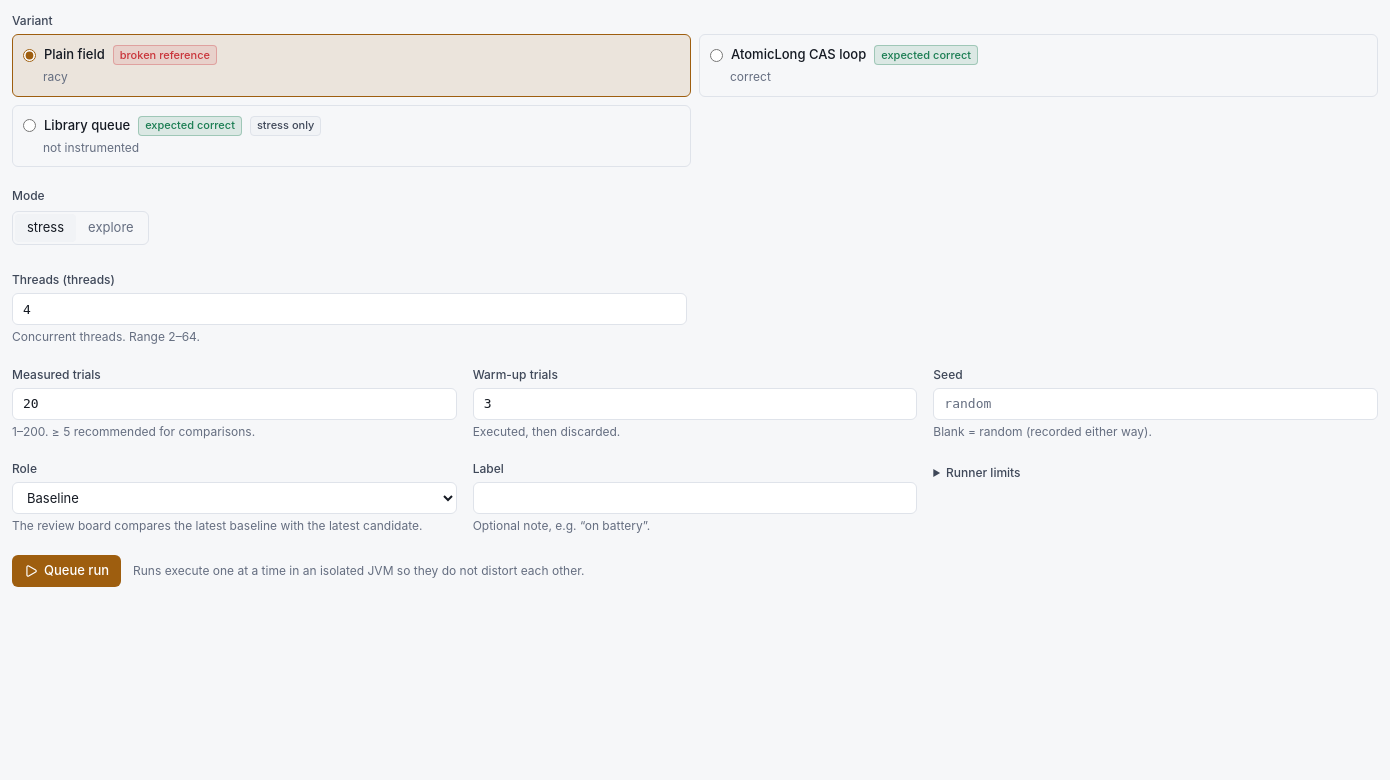
Test: RunConfigForm › blocks submission and explains out-of-range values
The width and height of the screenshot is (1390, 780).
Replace the text in the number field labelled "Threads (threads)" with "1000" at (350,309), box [12,293,687,325]
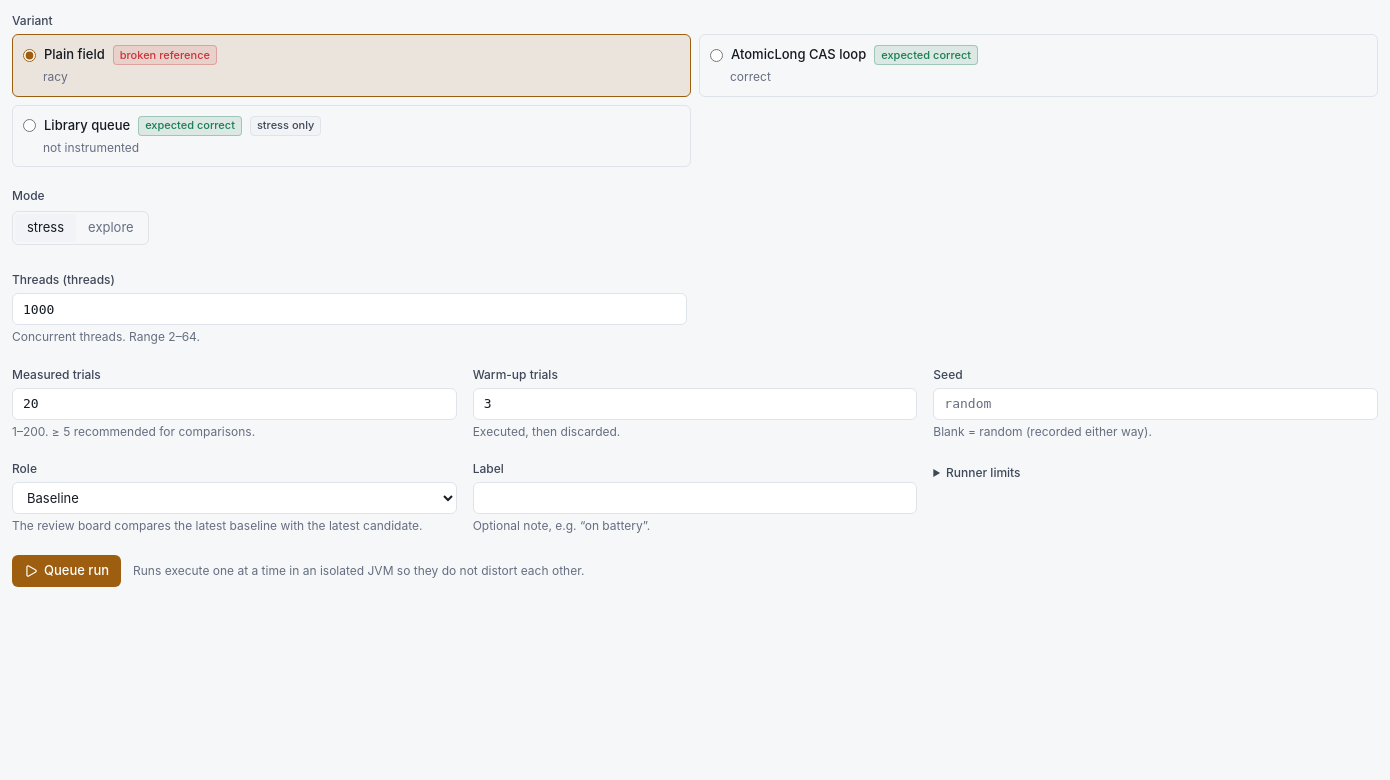
Click the button "Queue run".
click(66, 570)  # box [12,554,121,586]
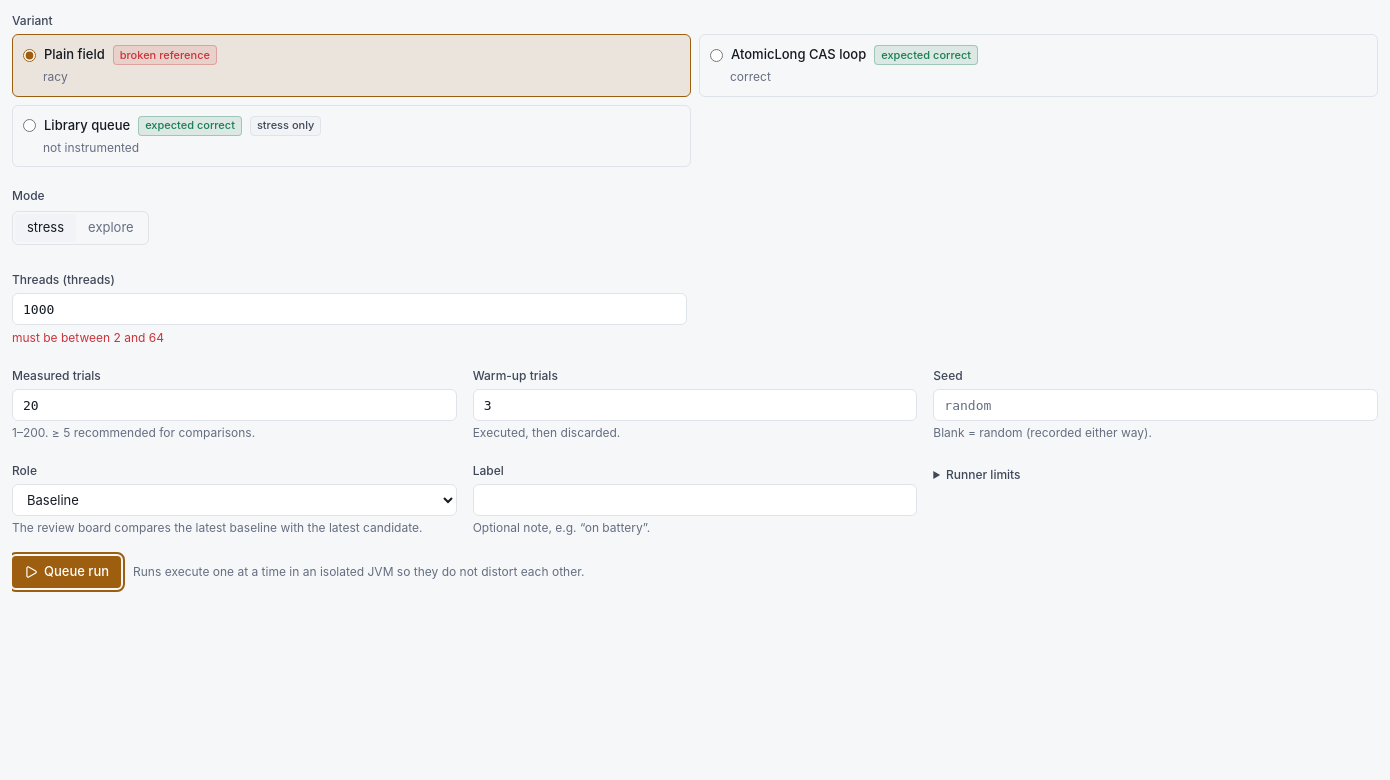
Result: the message reads "must be between 2 and 64" at [12,330,164,345]
